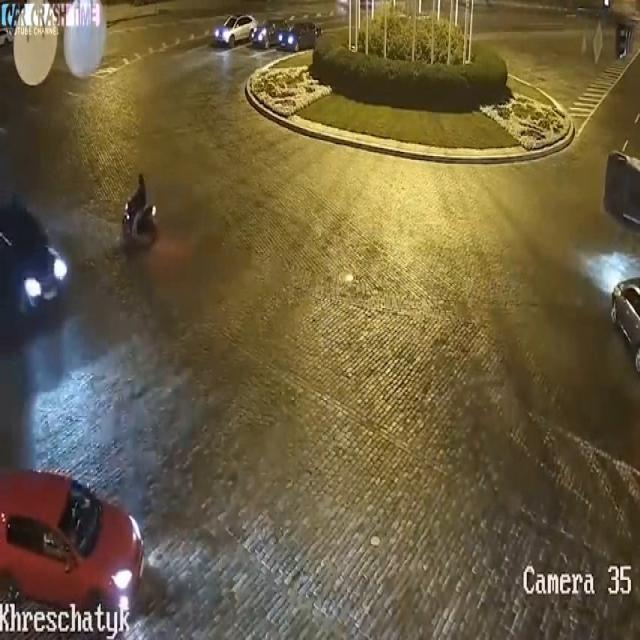Accident: (603, 113, 640, 295)
